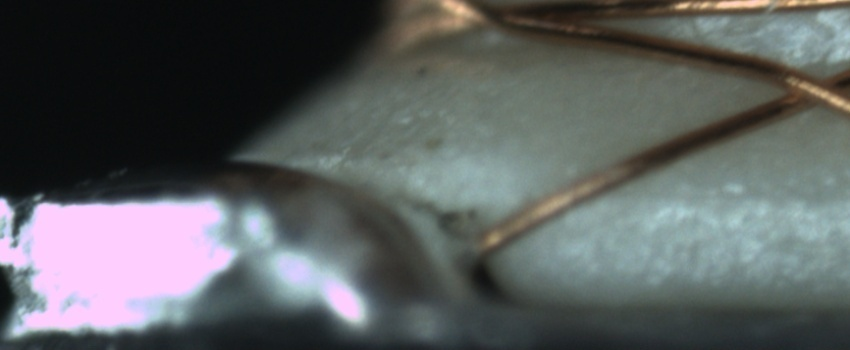CL: (761, 55, 846, 119)
DL: (613, 162, 848, 237)
